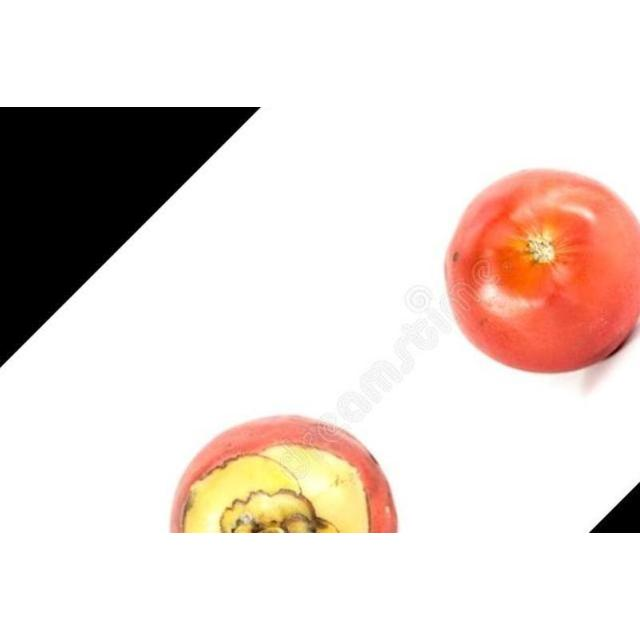good: (442, 168, 639, 375), (166, 414, 400, 533)
